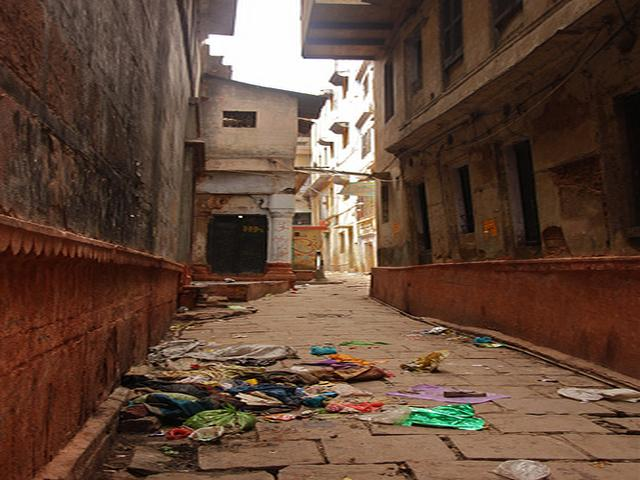garbage: (146, 349, 307, 422)
